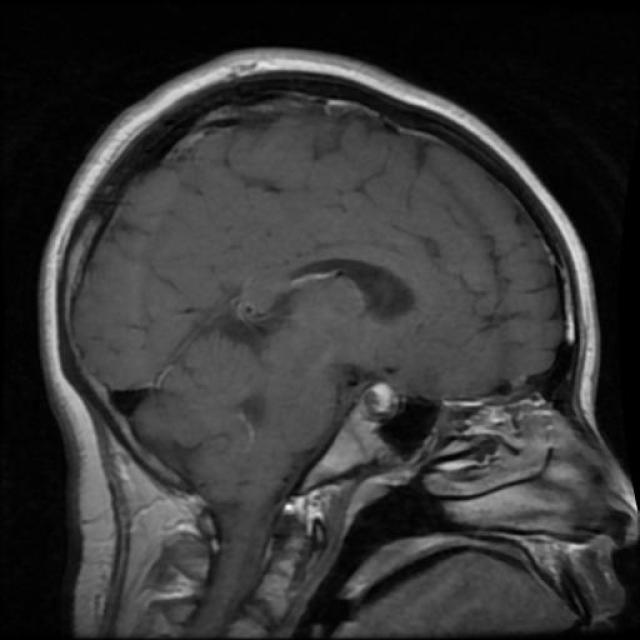pituitary: (340, 360, 414, 452)
